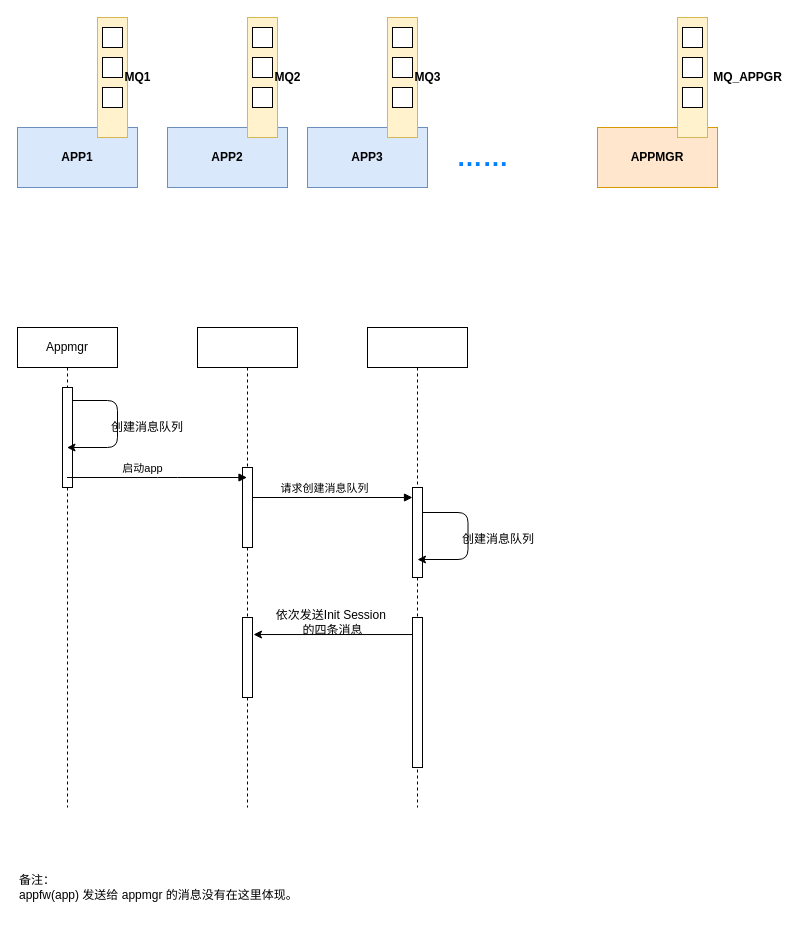
Some shapes in this 805 by 935 pixel diagram are drawn without their labels. The centre of each missing label's shape, as x and y in pixels:
APP: [247,567]
AppFw: [417,567]
